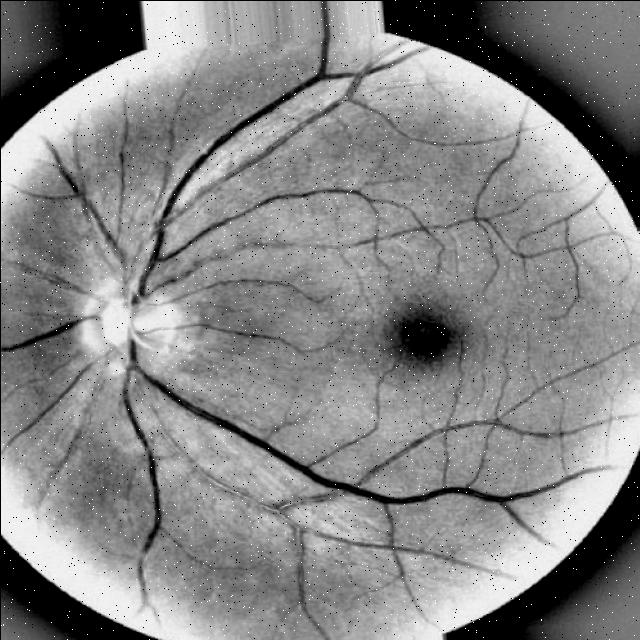Macula: (383, 308, 463, 365)
Nerves: (141, 375, 611, 550), (137, 63, 351, 297), (31, 130, 133, 291), (116, 334, 171, 612), (0, 305, 96, 361)
Optic Disk: (82, 278, 175, 371)
